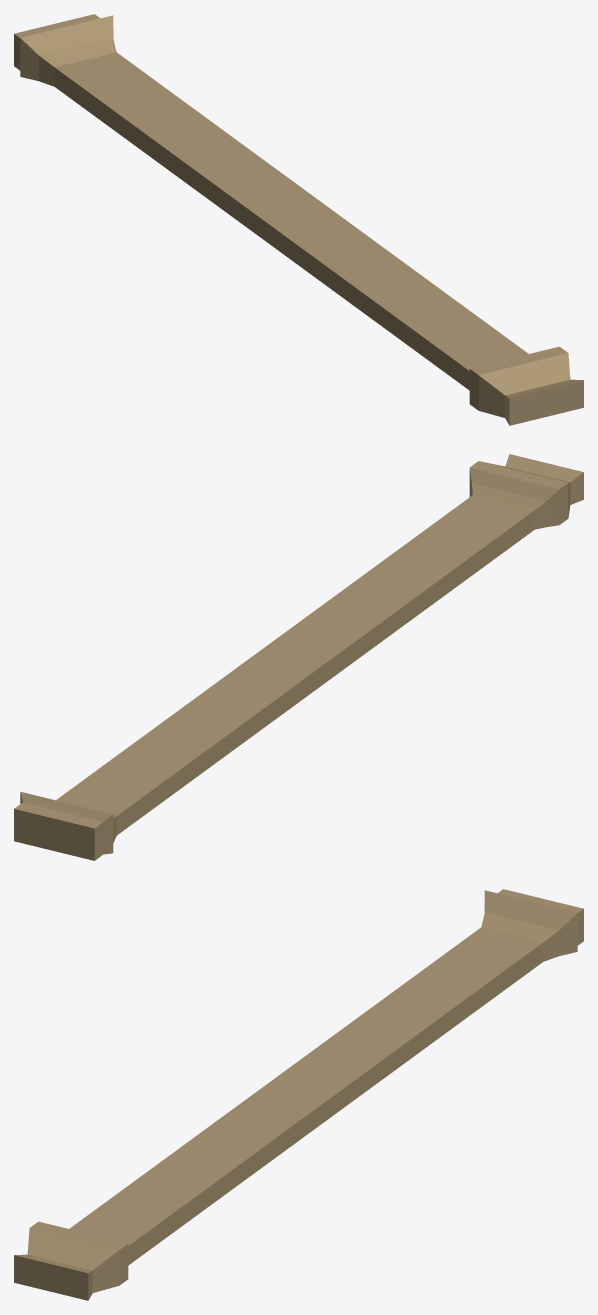
The model's file is T04_Pilaster_Trim.obj.
3 renders of one model, top to bottom at view 1: azimuth 30°, elevation 25°; view 2: azimuth 150°, elevation 25°; view 3: azimuth 330°, elevation 25°, orthographic.
Parts seen in each view (by area): view 1: T04_Pilaster_Trim; view 2: T04_Pilaster_Trim; view 3: T04_Pilaster_Trim.
Part boxes in pixels (x1,y1,x2,y2): T04_Pilaster_Trim: (14, 14, 583, 425); T04_Pilaster_Trim: (14, 454, 583, 860); T04_Pilaster_Trim: (14, 889, 583, 1300).
Size of the model in its own units: 0.6 by 0.24 by 5.5.
